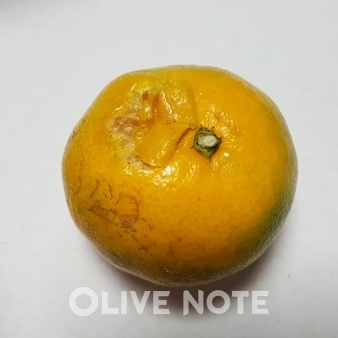mandarin: (62, 65, 299, 287)
